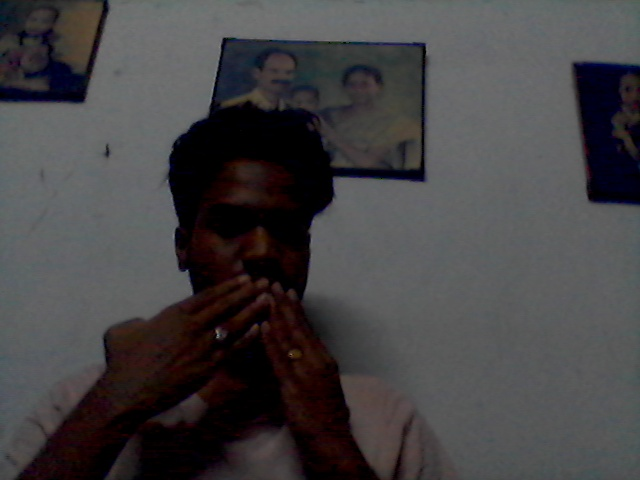Hi: (76, 266, 375, 448)
